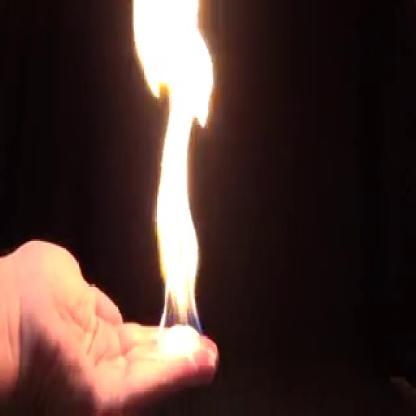fire: (128, 0, 217, 355)
